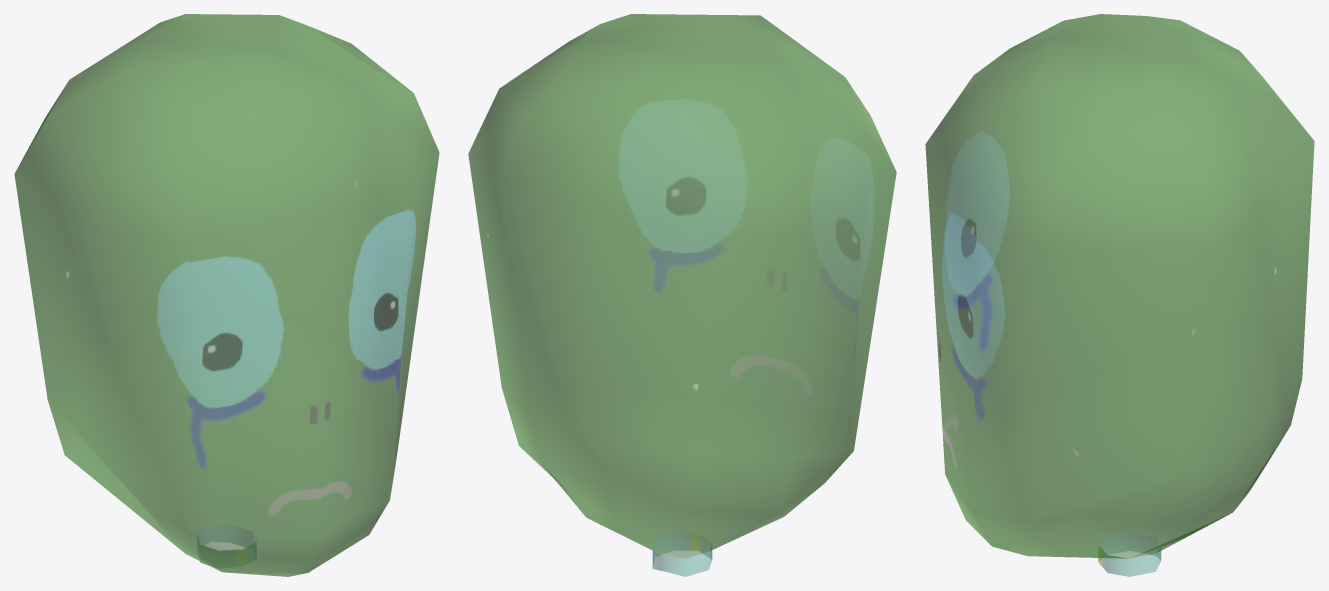
Rendered from голова.fbx.
The picture shows the model from 3 angles, left to right: view 1: azimuth 30°, elevation 25°; view 2: azimuth 150°, elevation 25°; view 3: azimuth 270°, elevation 25°; orthographic projection.
Visible parts, largest first — view 1: Проекция головы; view 2: Проекция головы; view 3: Проекция головы.
Part boxes in pixels (x1,y1,x2,y2): Проекция головы: [14, 14, 439, 576]; Проекция головы: [468, 14, 896, 576]; Проекция головы: [925, 14, 1314, 576].
Bounding box in the file's own units: 20.15 × 19.72 × 29.25.
